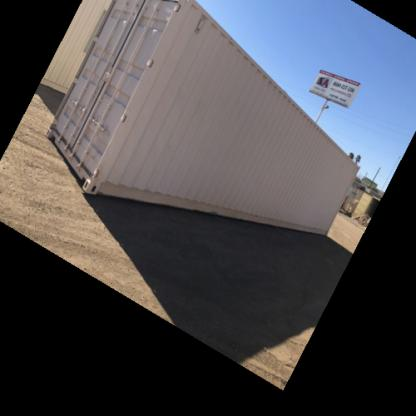Damage: (177, 180, 209, 202), (218, 188, 242, 212)
